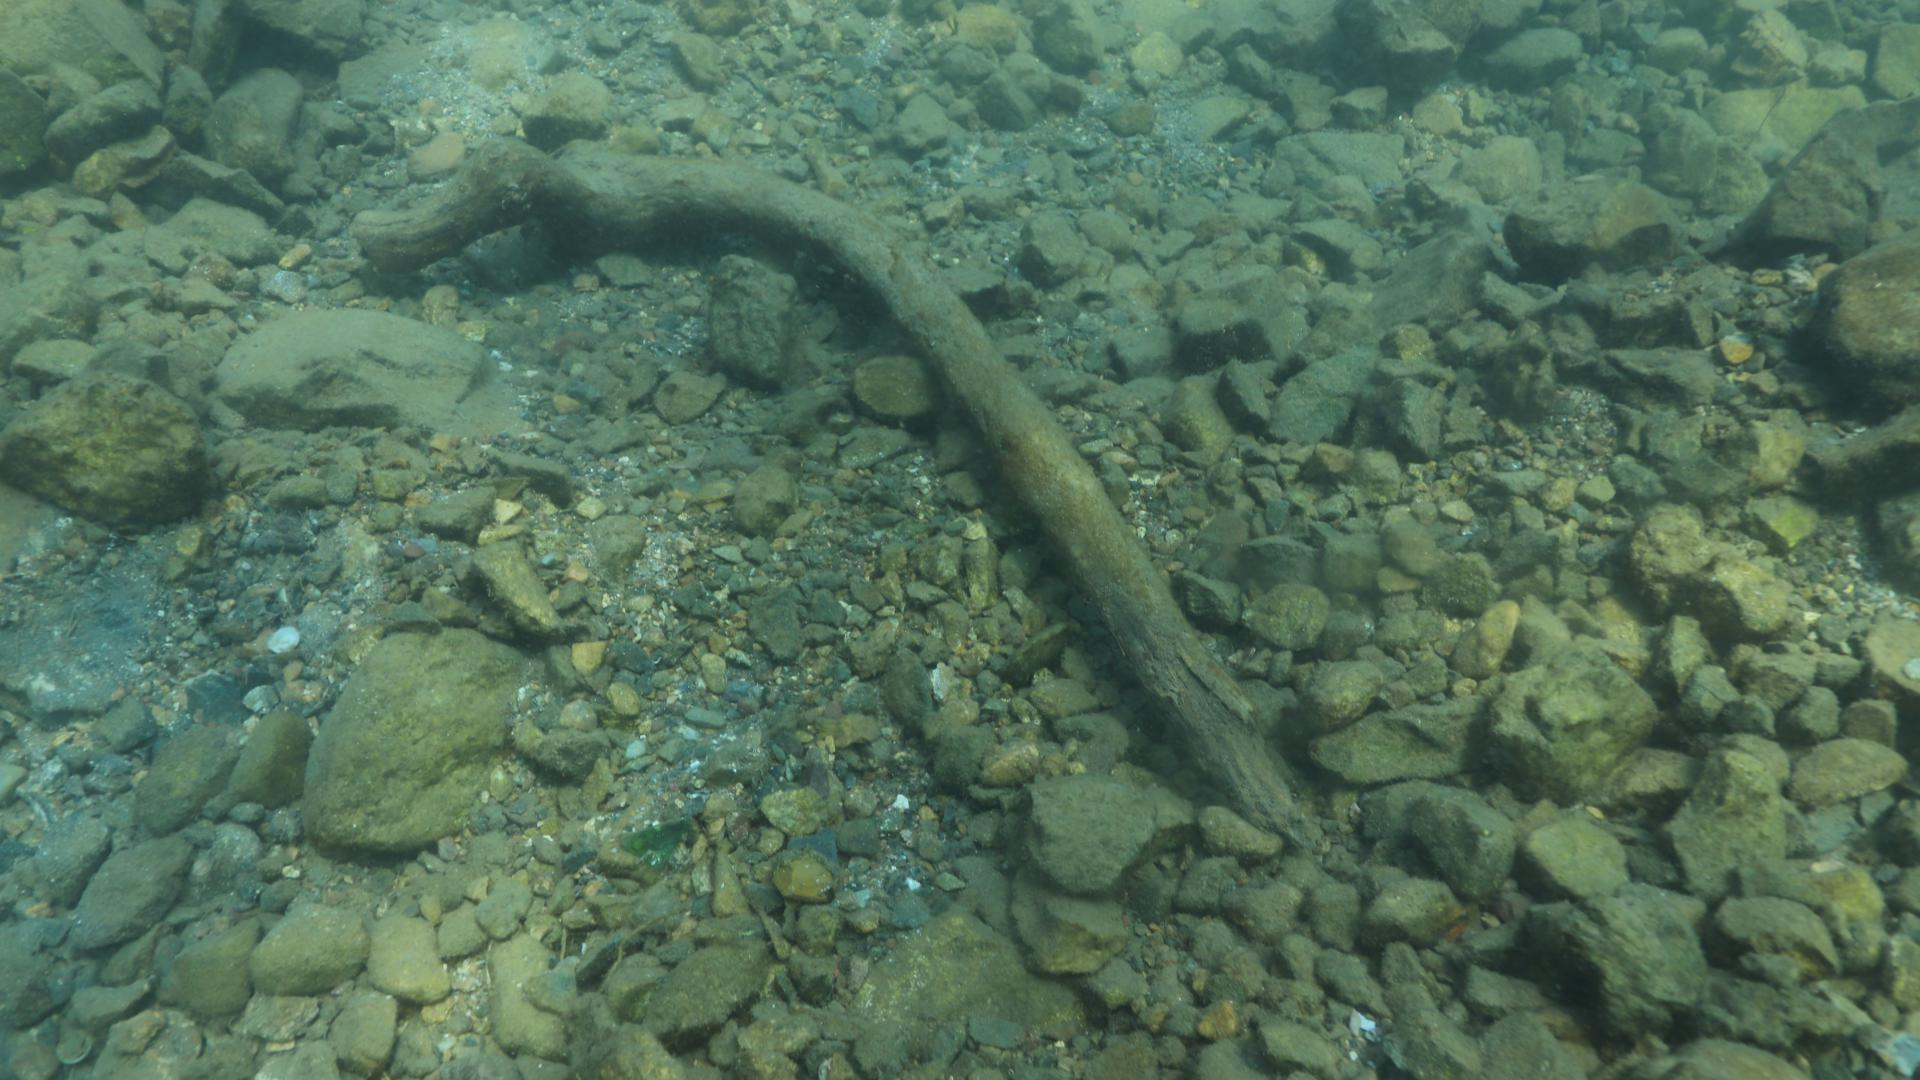wood: (347, 133, 1308, 847)
